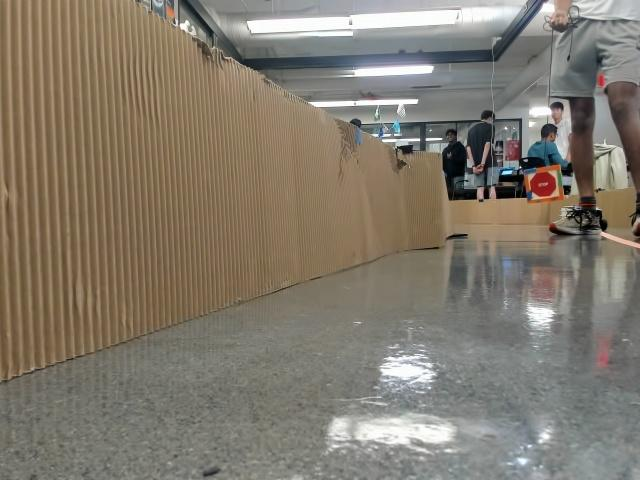Stop: (529, 174, 554, 198)
